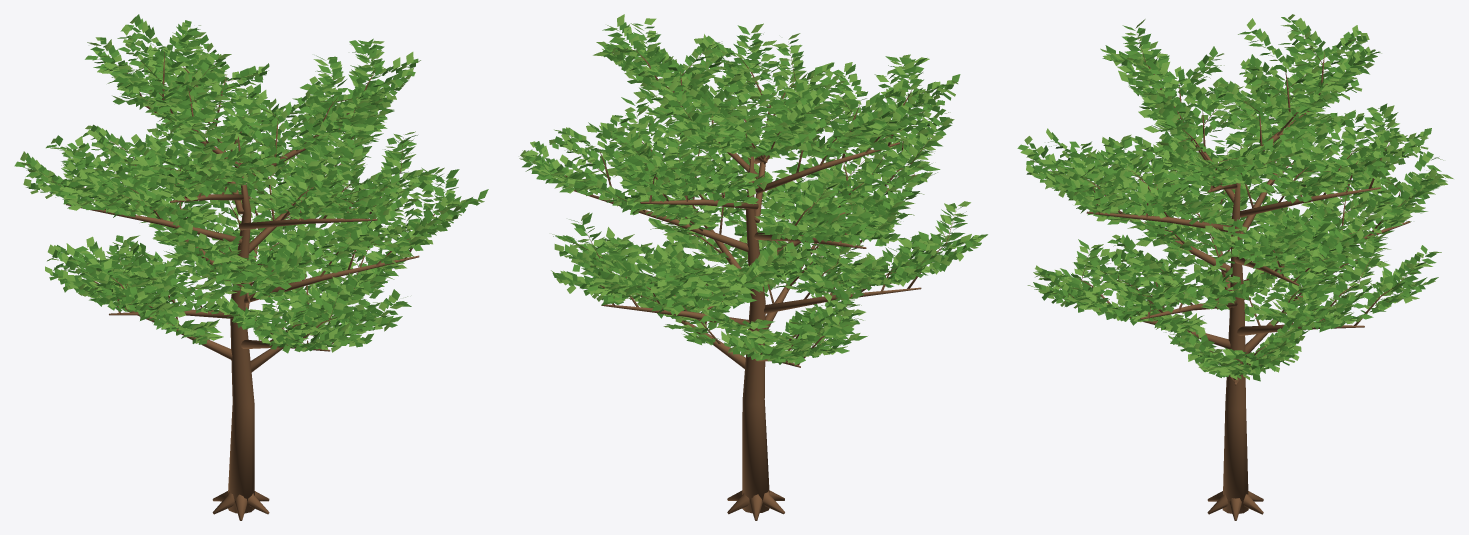
File: arbre-chene.glb
The picture shows the model from 3 angles, left to right: view 1: azimuth 30°, elevation 25°; view 2: azimuth 150°, elevation 25°; view 3: azimuth 270°, elevation 25°; orthographic projection. The views are drawn at different scales.
Size of the model in its own units: 2.7 by 3 by 2.66.
